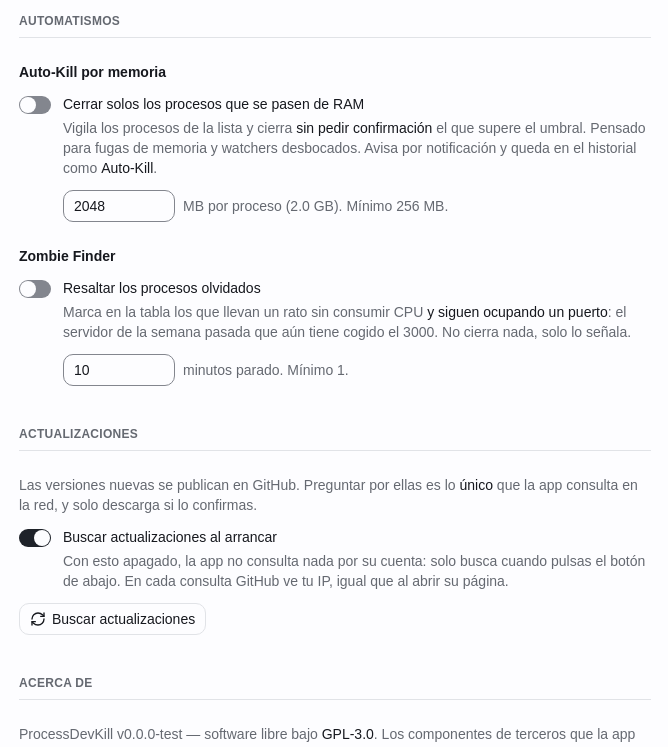
it: cuando los ajustes cambian desde fuera › los minutos vuelven al valor guardado si el campo queda con basura
This screenshot has width=668, height=747.
(page scrolled)
Clear the number field named "Minutos sin actividad": (119, 370) [63,354,175,386]
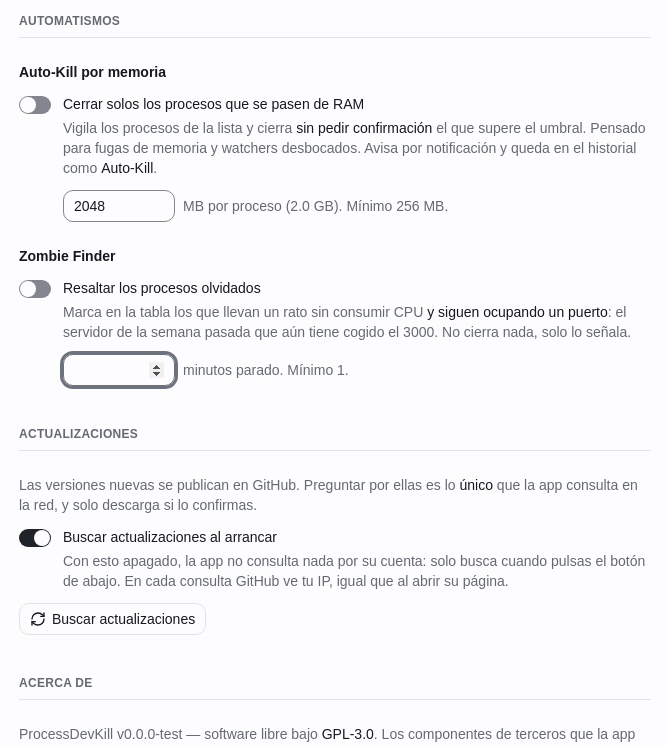
Press Tab
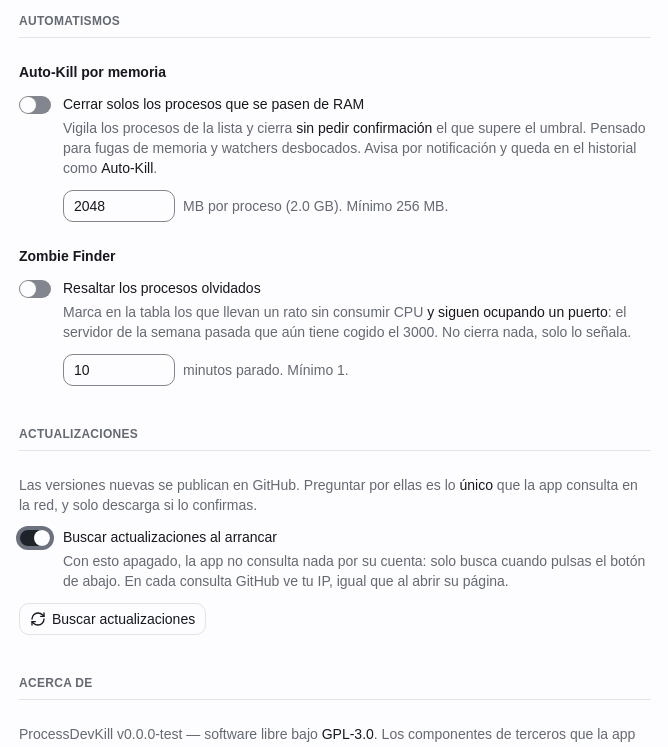
Expected: the number field named "Minutos sin actividad" holds "10", [63,354,175,386]
